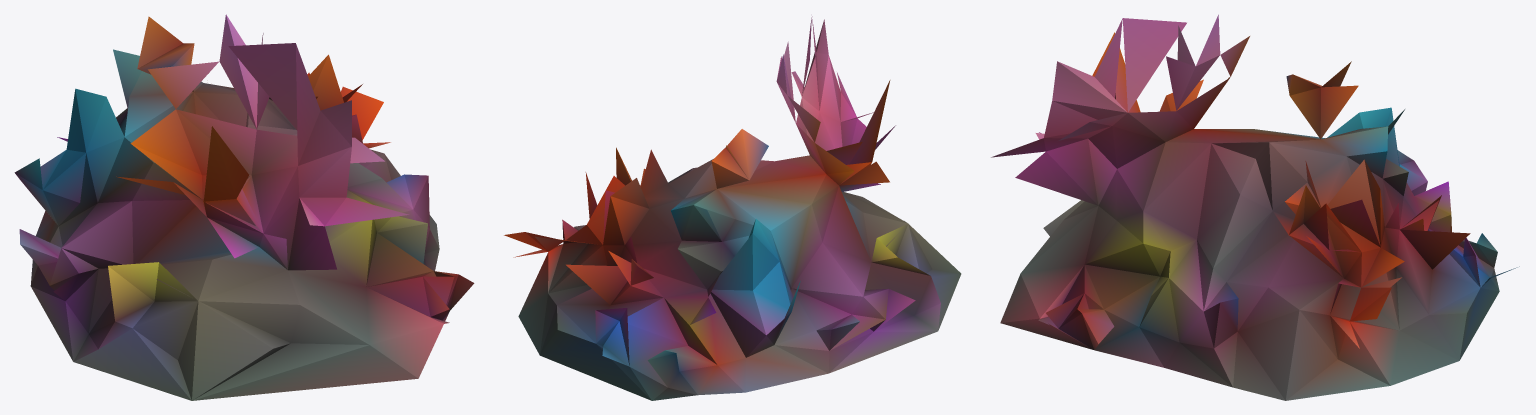
Rendered from lazu_lo.glb.
3 views of the same model, side by side, from view 1: azimuth 30°, elevation 25°; view 2: azimuth 150°, elevation 25°; view 3: azimuth 270°, elevation 25° (orthographic). The views are drawn at different scales.
Parts seen in each view (by area): view 1: lazu; view 2: lazu; view 3: lazu.
Boxes of the visible parts, left/top/right/bottom form: lazu: left=14, top=14, right=474, bottom=400; lazu: left=504, top=16, right=961, bottom=400; lazu: left=991, top=14, right=1519, bottom=400.
Size of the model in its own units: 1.62 by 1.13 by 1.95.
